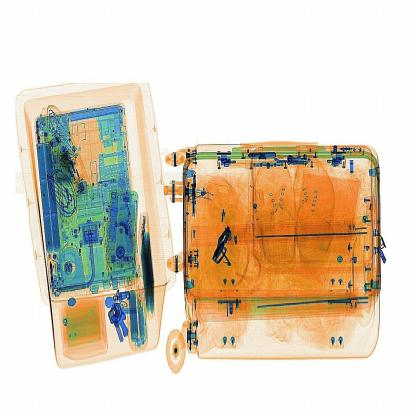knife: (182, 163, 208, 222)
